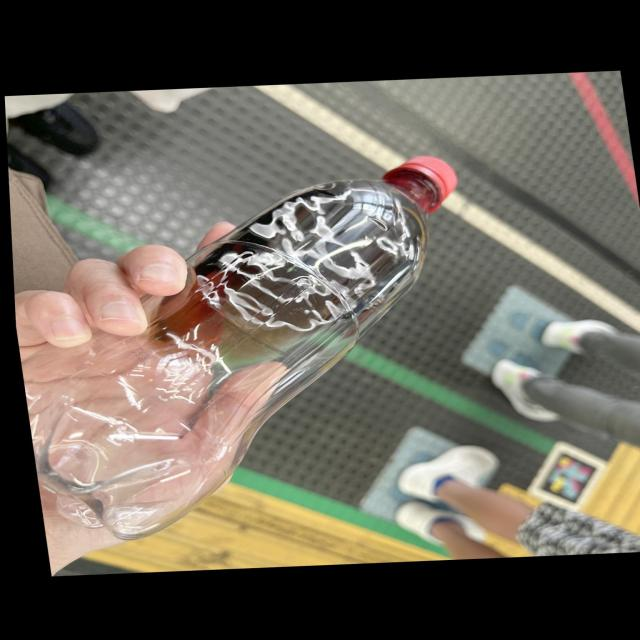low: (25, 156, 455, 539)
